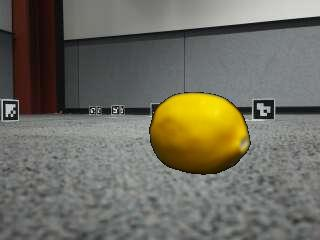lemon: (154, 95, 252, 176)
